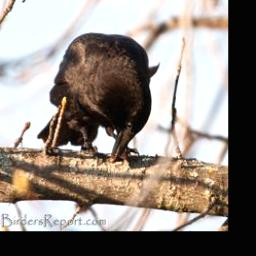Crow: (35, 30, 163, 163)
